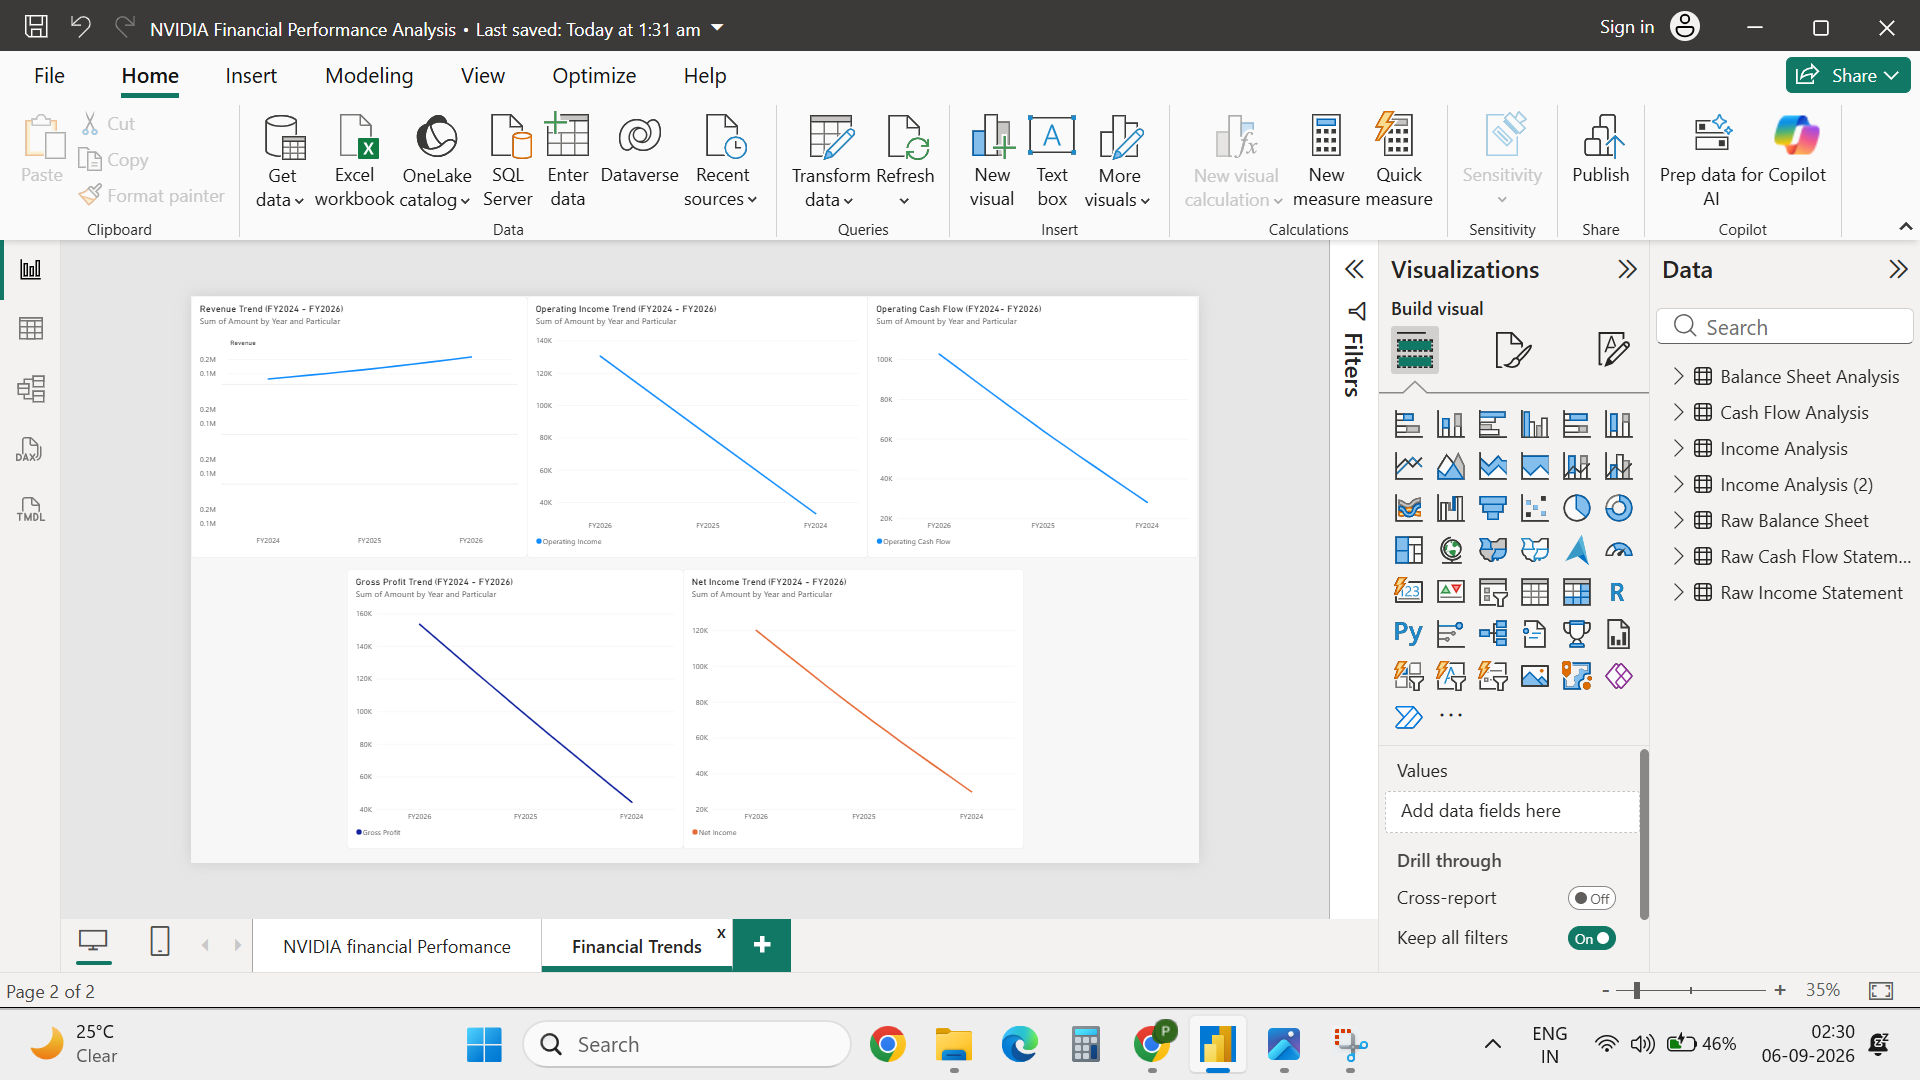

The page's visual inventory and layout, read from the dashboard file:
{"tool":"powerbi","page":{"name":"Financial Trends","canvas":[1920,1080],"ordinal":1},"visuals":[{"type":"lineChart","title":"Revenue Trend (FY2024 - FY2026)","fields":{"Category":["Income Analysis.Year"],"Rows":["Income Analysis.Particular"],"Y":["Sum(Income Analysis.Amount)"]},"box":[0,0,640.6,498.9],"z":0},{"type":"lineChart","title":"Gross Profit Trend (FY2024 - FY2026)","fields":{"Category":["Income Analysis.Year"],"Series":["Income Analysis.Particular"],"Y":["Sum(Income Analysis.Amount)"]},"box":[297.6,518.7,640.6,532.9],"z":1000},{"type":"lineChart","title":"Operating Income Trend (FY2024 - FY2026)","fields":{"Category":["Income Analysis.Year"],"Series":["Income Analysis.Particular"],"Y":["Sum(Income Analysis.Amount)"]},"box":[640.6,0,649.1,498.9],"z":2000},{"type":"lineChart","title":"Net Income Trend (FY2024 - FY2026)","fields":{"Category":["Income Analysis.Year"],"Series":["Income Analysis.Particular"],"Y":["Sum(Income Analysis.Amount)"]},"box":[938.3,518.7,649.1,532.9],"z":3000},{"type":"lineChart","title":"Operating Cash Flow (FY2024- FY2026)","fields":{"Category":["Cash Flow Analysis.Year"],"Series":["Cash Flow Analysis.Particular                         "],"Y":["Sum(Cash Flow Analysis.Amount)"]},"box":[1289.8,0,629.3,498.9],"z":4000}]}

Visuals, with their boxes on the page's 1920x1080 design canvas (x1, y1, x2, y2). These are canvas units, not pixel positions in the 1920x1080 screenshot, which may show the page scaled, cropped or inside an application window:
"Revenue Trend (FY2024 - FY2026)" lineChart: rect(0, 0, 641, 499)
"Gross Profit Trend (FY2024 - FY2026)" lineChart: rect(298, 519, 938, 1052)
"Operating Income Trend (FY2024 - FY2026)" lineChart: rect(641, 0, 1290, 499)
"Net Income Trend (FY2024 - FY2026)" lineChart: rect(938, 519, 1587, 1052)
"Operating Cash Flow (FY2024- FY2026)" lineChart: rect(1290, 0, 1919, 499)
